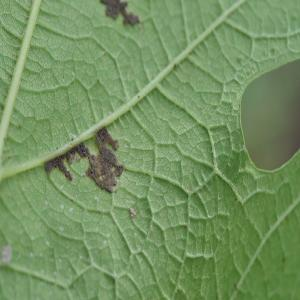Folha: (0, 0, 299, 299)
Fungo: (44, 0, 246, 193), (82, 126, 124, 193), (66, 125, 119, 165), (44, 140, 89, 182), (99, 0, 141, 29), (44, 153, 73, 181), (66, 135, 90, 163), (96, 125, 119, 150), (100, 0, 128, 20), (122, 11, 141, 28), (1, 244, 12, 264), (113, 163, 124, 177), (129, 207, 136, 217)
